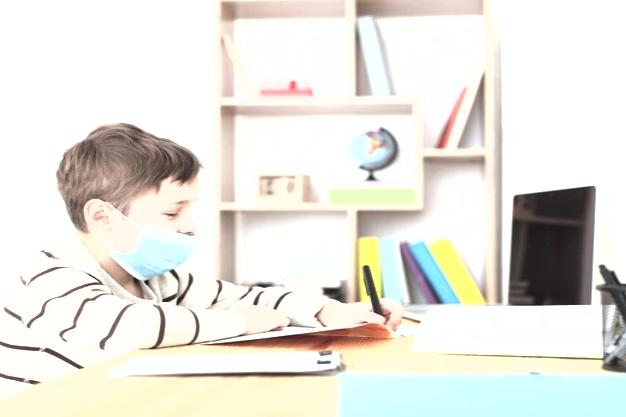mask_weared_incorrect: (58, 119, 204, 283)
